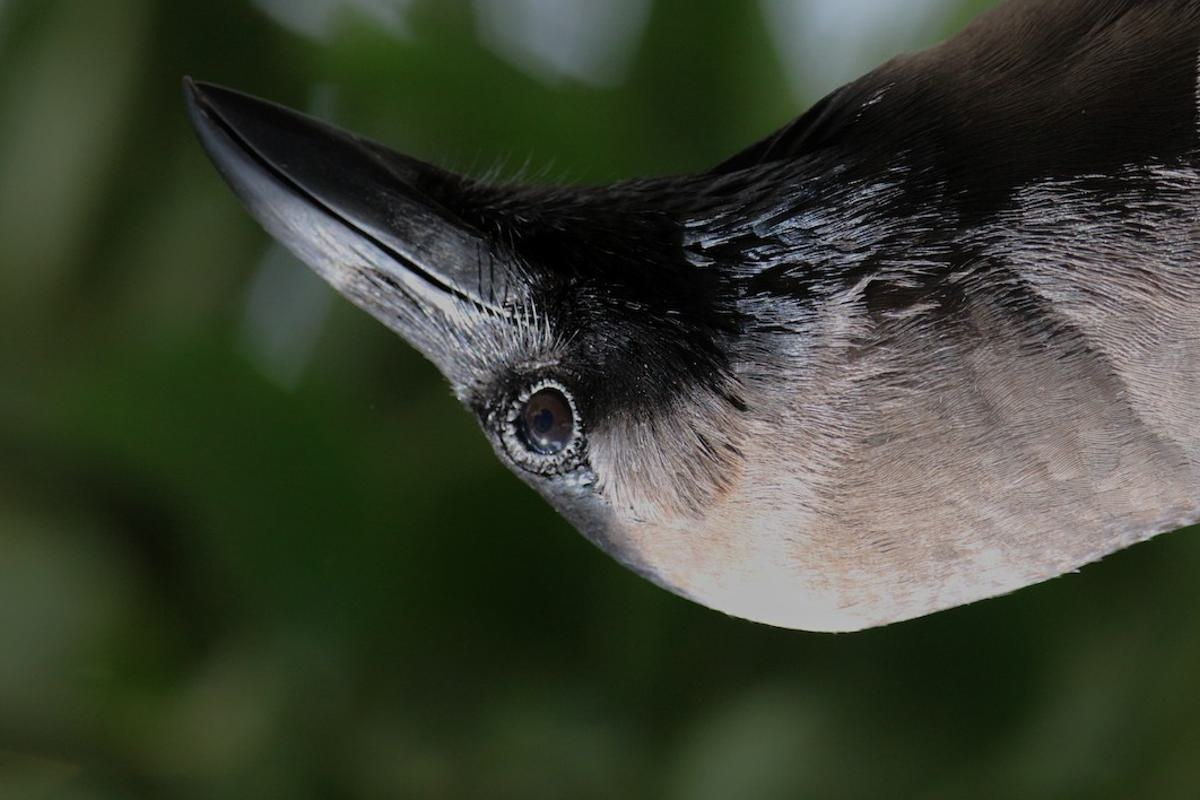crow: (175, 64, 1200, 651)
